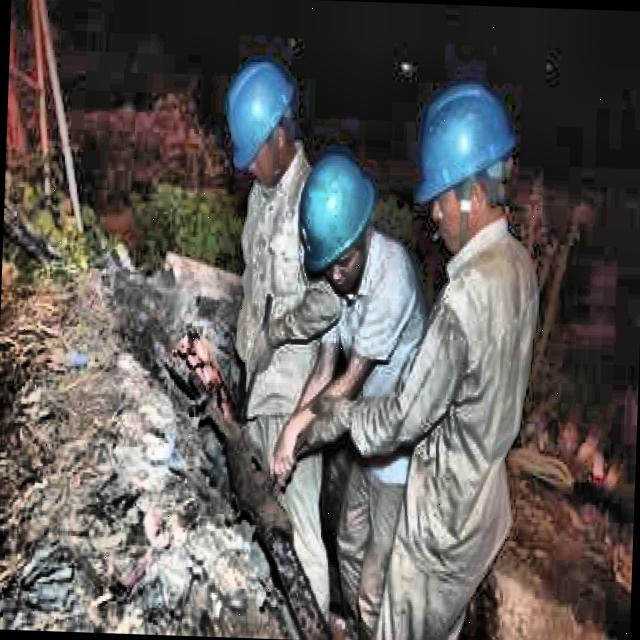helmet: (410, 72, 519, 252), (298, 150, 388, 298), (213, 53, 299, 191)
